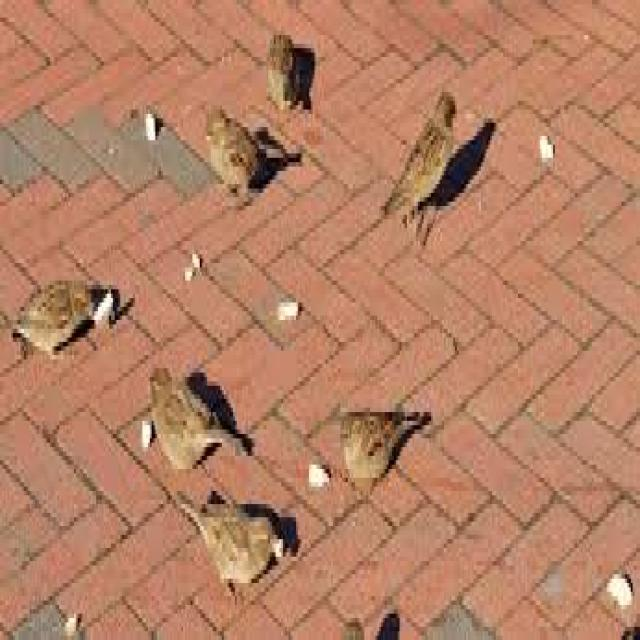bird: (382, 85, 461, 244), (304, 404, 435, 496), (142, 364, 258, 467), (13, 274, 124, 358), (270, 29, 317, 112)
